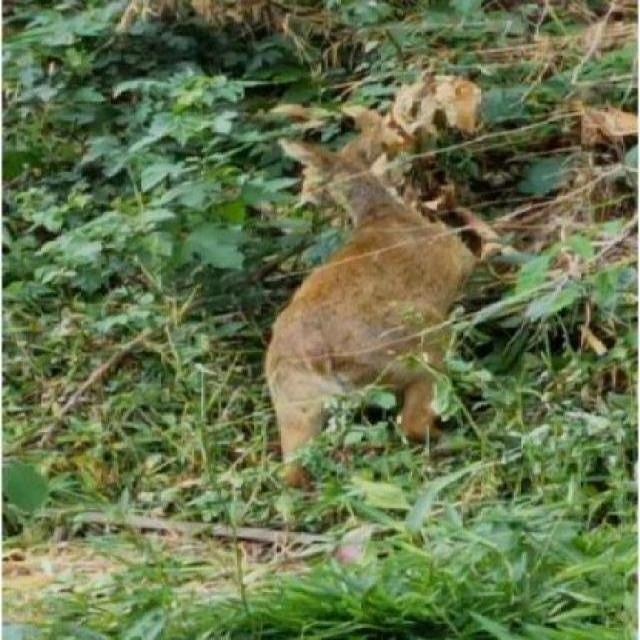deer: (276, 126, 482, 463)
